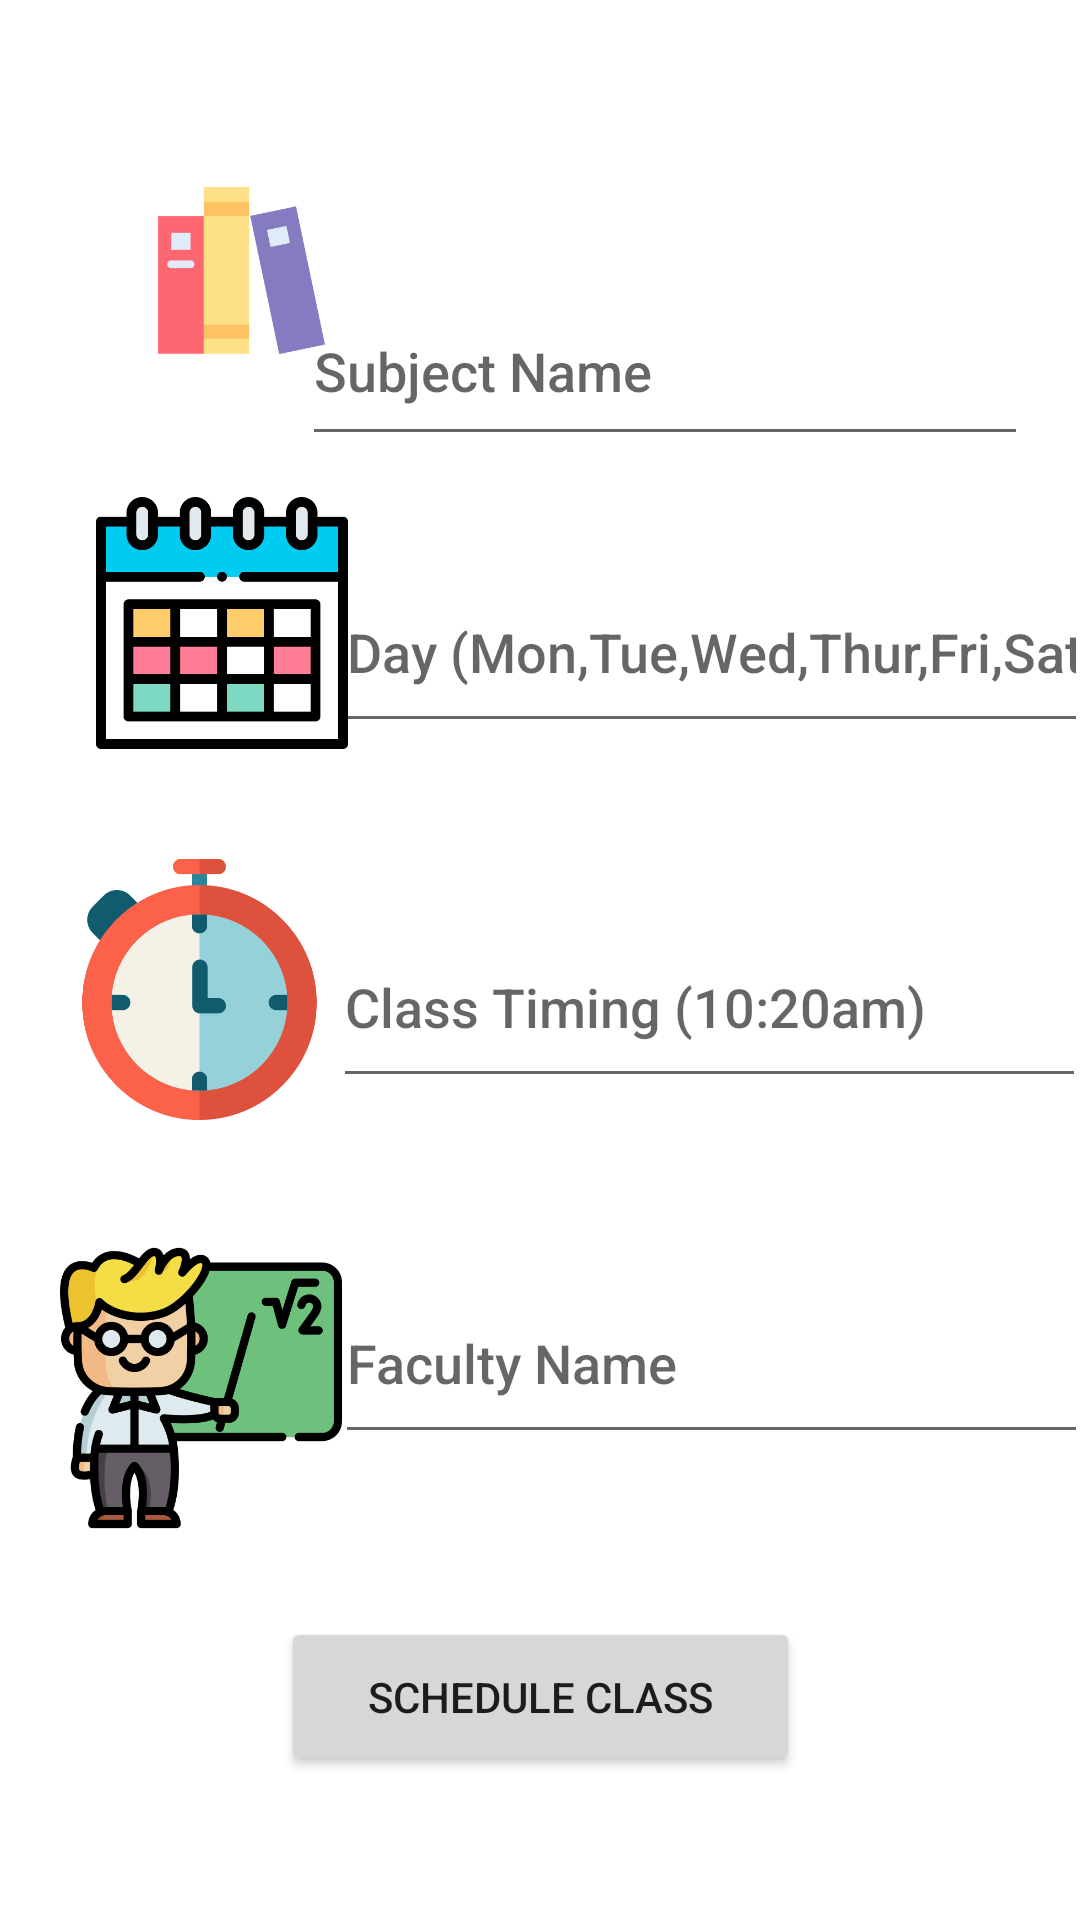

Icon bounding boxes for this 1080px x 1920px phone screenshot, format (x1, y1, x2, y2):
books: (158, 187, 374, 393)
chronometer: (82, 859, 317, 1120)
schedule: (96, 497, 348, 749)
teacher: (60, 1247, 342, 1529)
